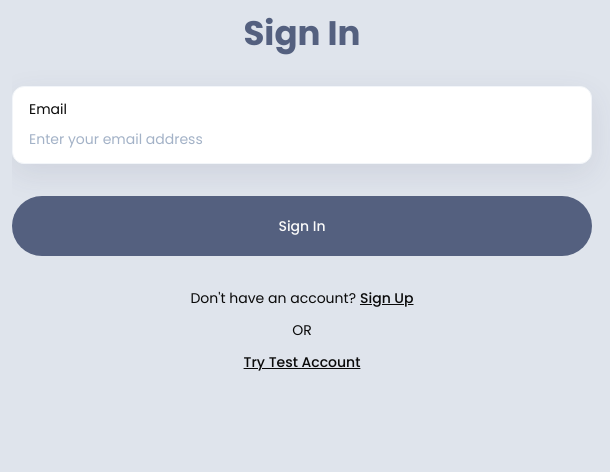
Test: AuthForm component › Error handling › displays error message when account does not exist
In the field labelled "Email": (302, 139) [29,119,575,159], type "nonexistent@example.com"
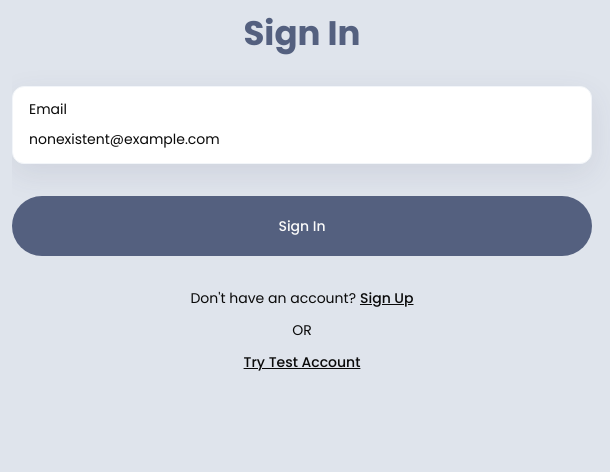
Click the button with aria-label "submit form": (302, 226) [12,196,592,256]
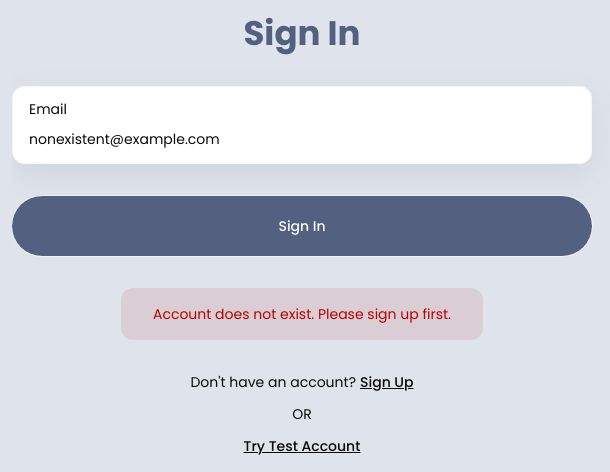
Expected: the message shows "Account does not exist. Please sign up first", [153,304,451,324]
